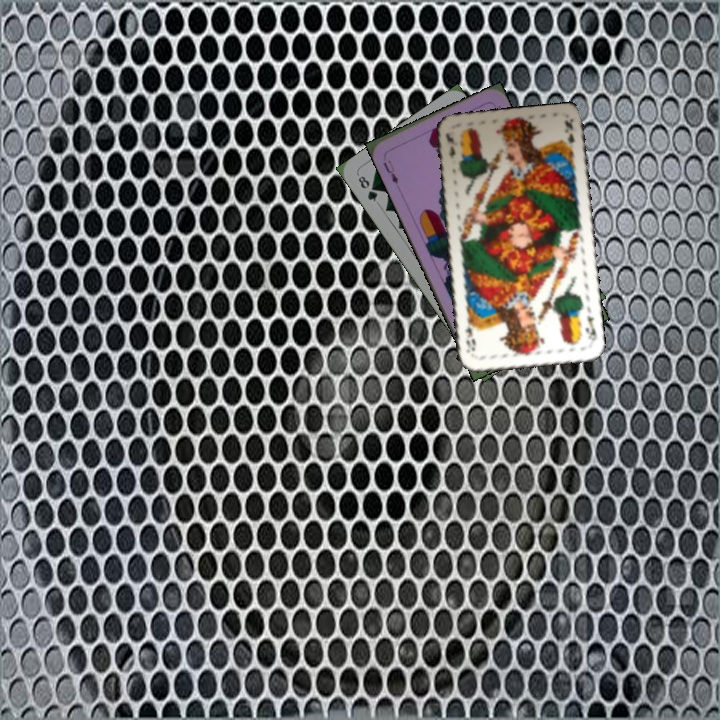EK: (581, 311, 599, 343), (441, 129, 458, 161)
EU: (379, 156, 401, 187)
G8: (354, 171, 380, 204)
